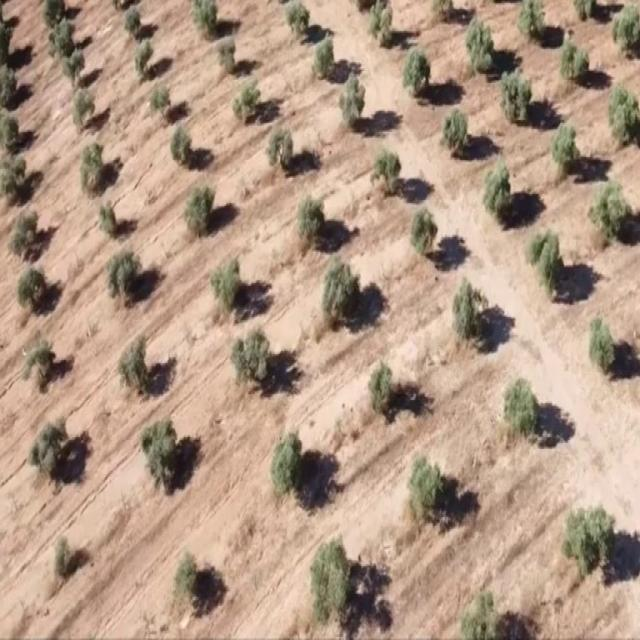trees: (545, 490, 621, 596), (302, 526, 372, 628), (395, 442, 465, 533), (257, 414, 315, 507), (521, 214, 572, 313), (317, 245, 367, 338), (27, 405, 75, 495), (159, 539, 215, 612), (135, 406, 180, 496), (542, 106, 592, 187), (224, 318, 277, 394), (585, 168, 633, 251), (500, 363, 545, 450), (360, 333, 399, 426), (403, 197, 448, 271), (285, 189, 333, 258), (208, 246, 252, 319), (481, 152, 521, 228), (450, 274, 491, 348), (435, 94, 482, 158), (114, 323, 157, 392), (101, 233, 142, 303), (580, 308, 618, 382), (399, 33, 438, 103), (7, 200, 45, 271), (39, 517, 79, 584), (229, 64, 267, 134), (175, 177, 220, 236), (492, 56, 536, 115), (20, 331, 60, 392), (367, 135, 409, 193), (331, 67, 369, 130), (462, 14, 498, 80), (266, 113, 304, 174), (602, 74, 636, 140), (72, 130, 108, 190), (550, 36, 591, 86), (167, 111, 200, 170), (148, 68, 183, 122), (18, 262, 52, 315), (1, 145, 34, 197), (364, 0, 398, 46), (99, 192, 126, 248), (133, 28, 162, 78), (281, 0, 316, 41), (212, 26, 245, 68), (614, 0, 639, 54), (185, 0, 221, 35), (68, 87, 96, 132), (60, 48, 90, 90), (310, 29, 336, 74), (0, 59, 22, 110), (518, 0, 547, 38), (48, 17, 74, 56), (120, 5, 149, 38), (0, 106, 22, 146), (41, 3, 68, 22)
